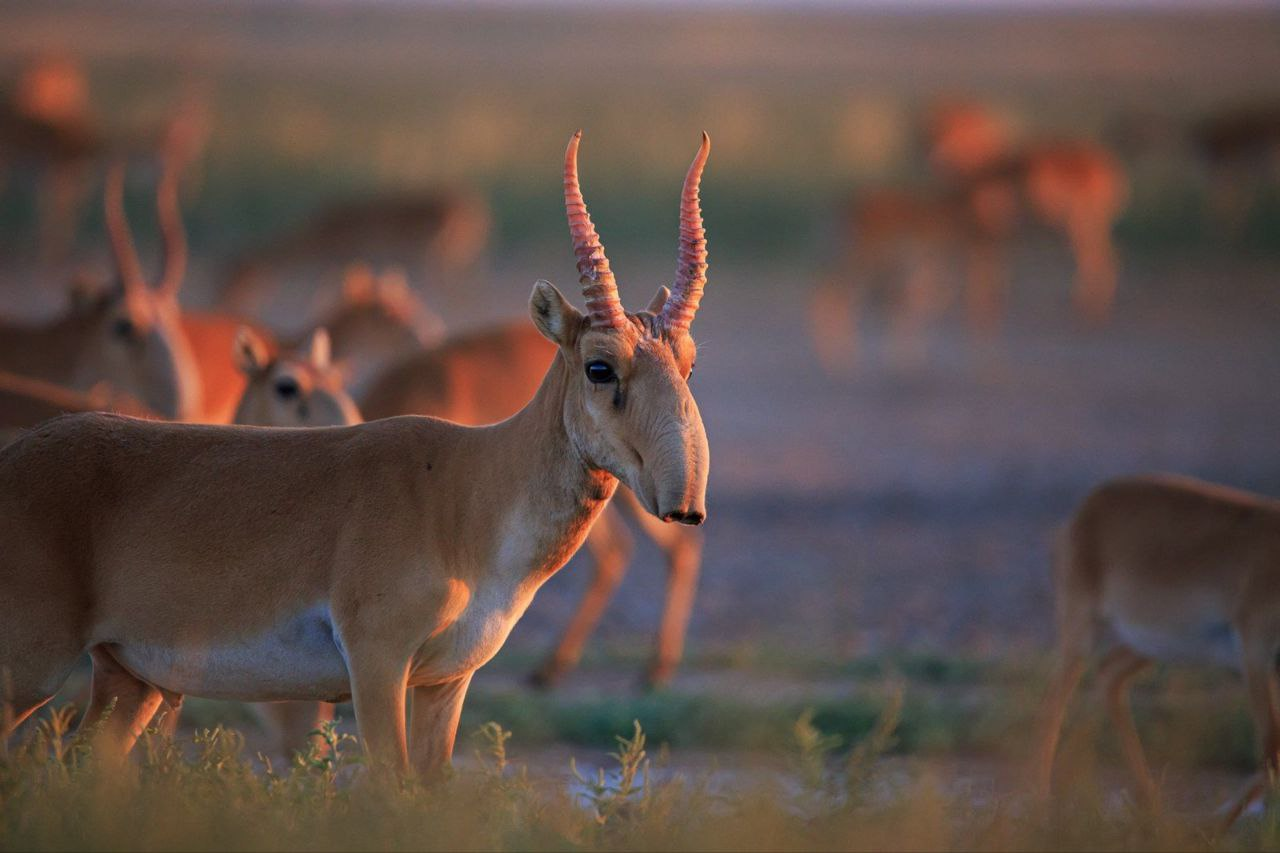saiga: (2, 128, 716, 803)
